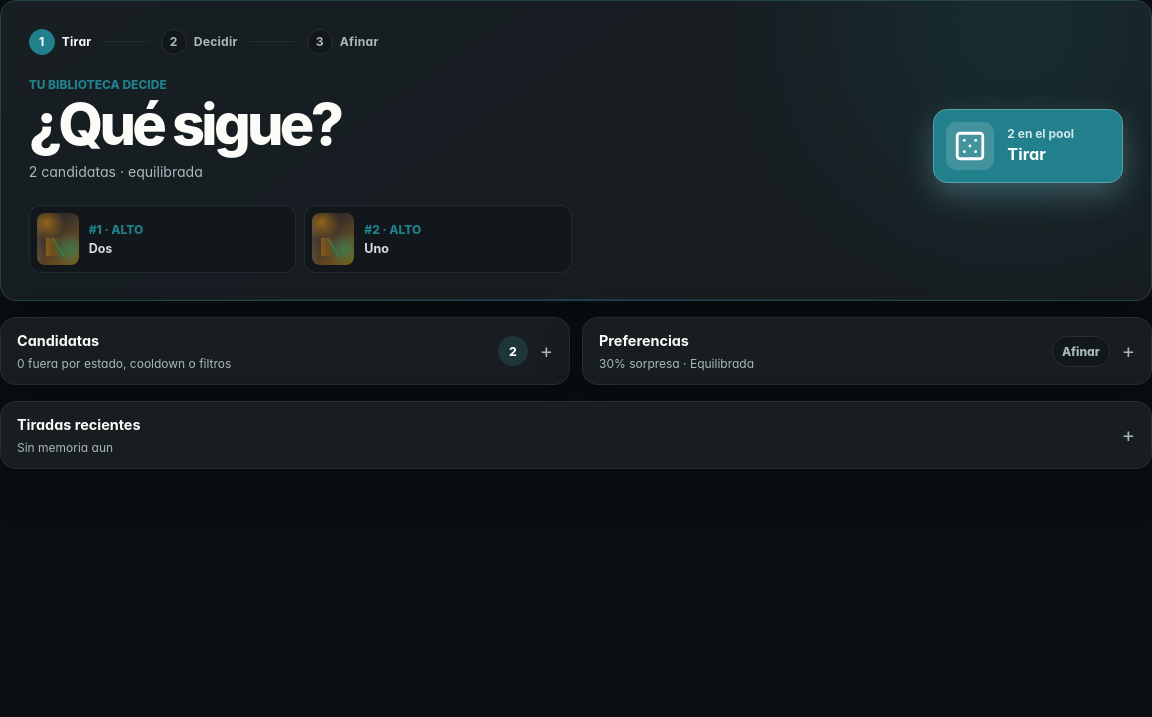
Test case: DiceTab experience › keeps the roll locked until its recommendation has been persisted
The image size is (1152, 717).
Click the button with test id "roll-button": x=1028, y=146 [933, 109, 1123, 183]
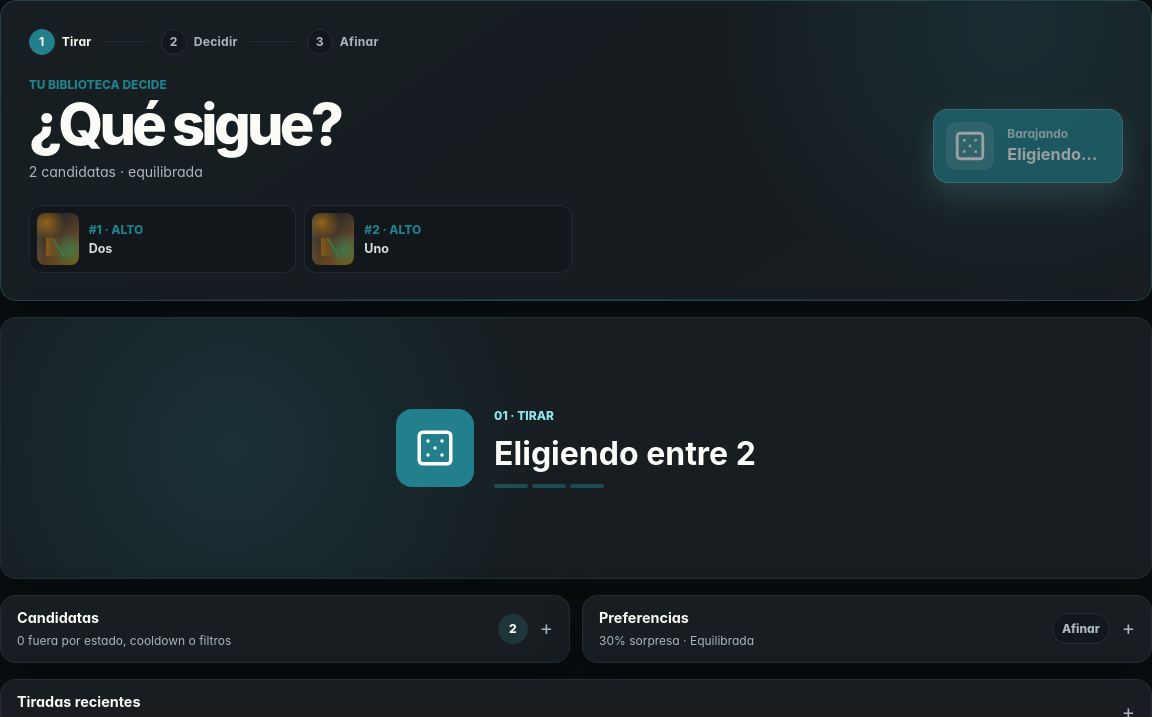
Now the button with test id "roll-button" is disabled
Now the element with test id "recommendation-result" shows "Eligiendo entre 2", box [1, 318, 1151, 578]
Click the button with test id "roll-button": x=1028, y=146 [933, 109, 1123, 183]
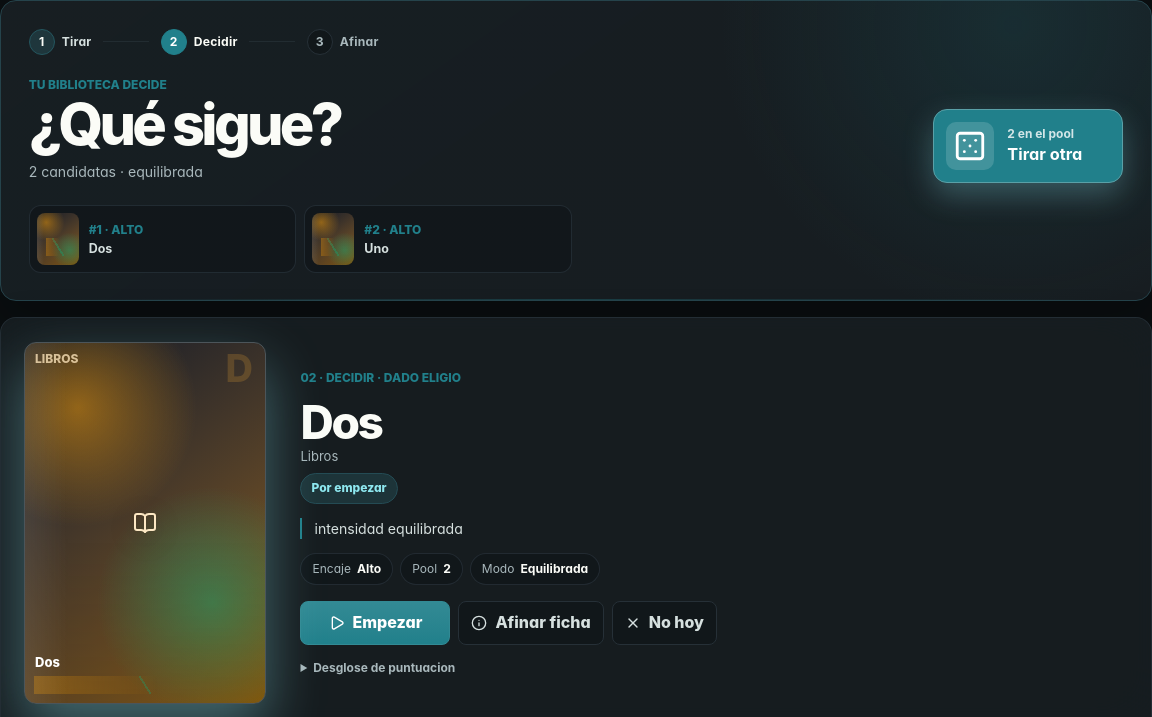
Now the element with test id "recommendation-result" shows "Dado eligio", box [300, 370, 461, 385]
Now the button with test id "roll-button" is enabled, box [933, 109, 1123, 183]
